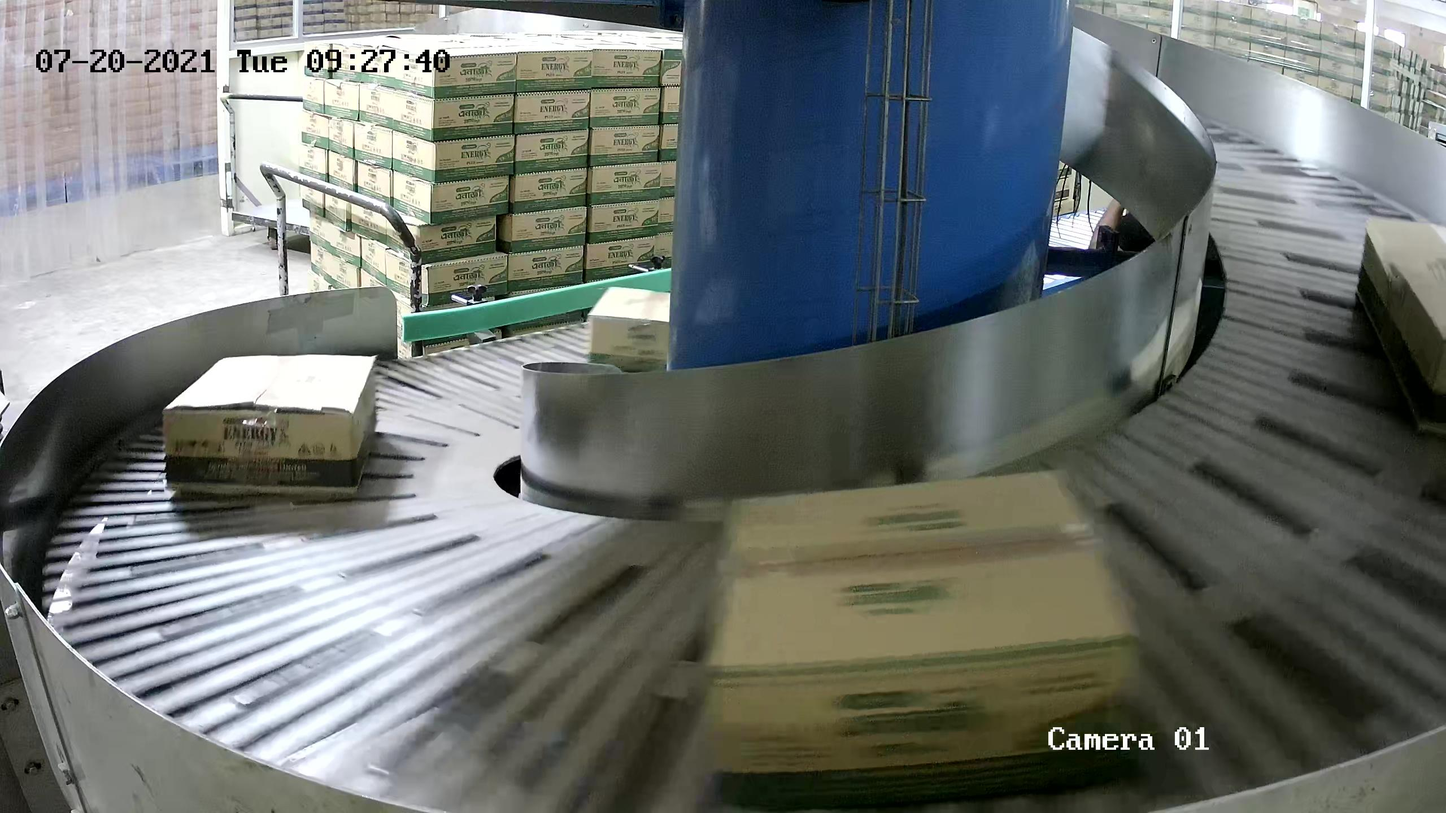Box: (699, 466, 1147, 813), (163, 353, 380, 497), (1352, 212, 1446, 437), (587, 285, 703, 383)
